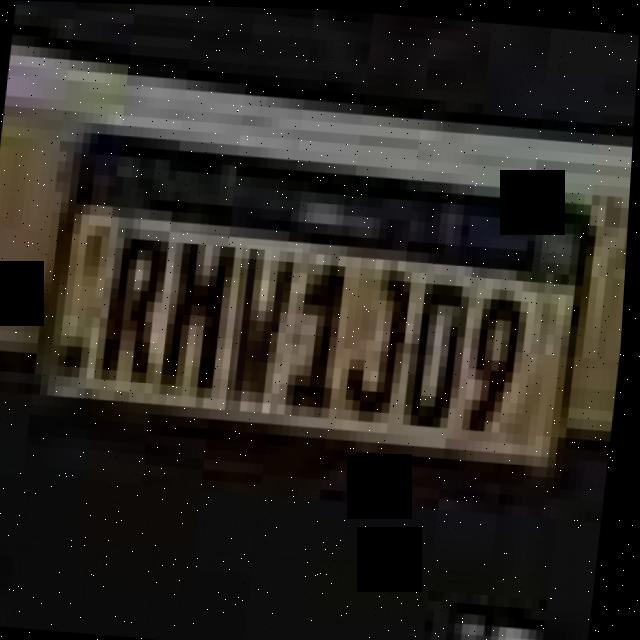0: (408, 267, 473, 432)
1: (294, 246, 364, 418)
9: (469, 283, 538, 444)
J: (352, 255, 421, 429)
M: (166, 228, 241, 397)
R: (106, 223, 176, 389)
W: (234, 243, 306, 413)
